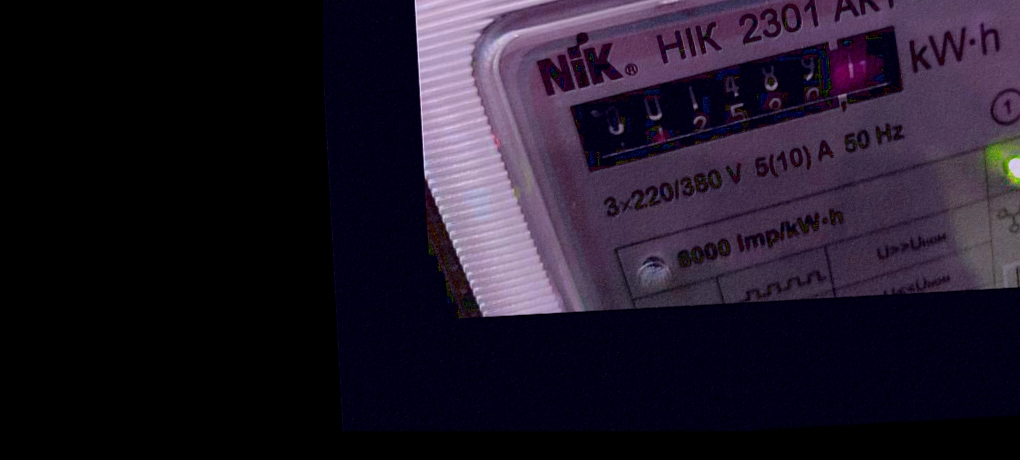0: (639, 86, 667, 123), (602, 102, 628, 138)
1: (840, 43, 861, 82), (683, 80, 705, 112)
4: (720, 67, 744, 100)
8: (760, 57, 783, 94)
9: (798, 49, 820, 82)
screen: (555, 13, 938, 184)
